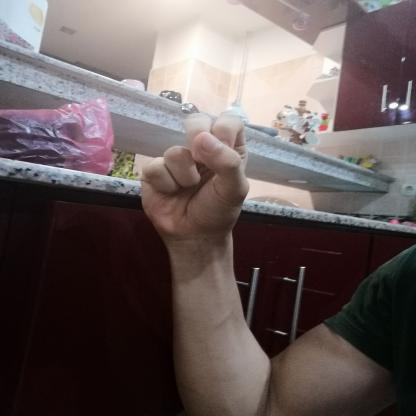QAAF: (120, 103, 263, 255)
